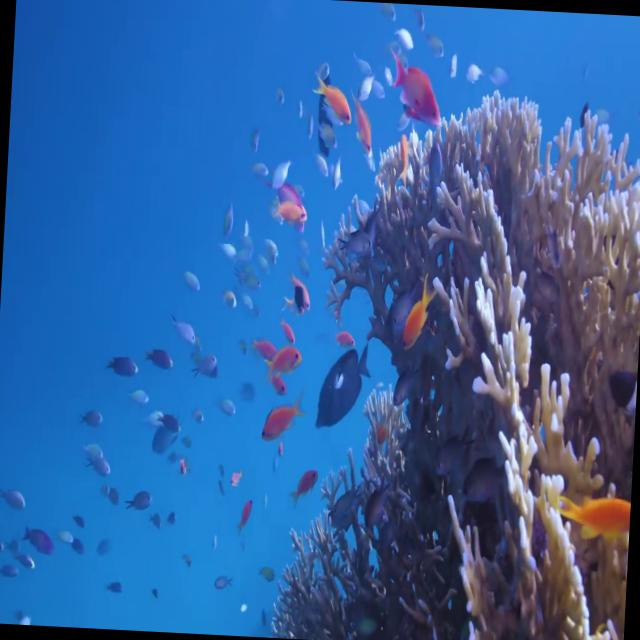fish: (312, 332, 373, 433), (542, 484, 632, 550), (387, 263, 443, 366), (384, 49, 448, 133), (253, 388, 312, 458), (260, 334, 310, 388), (270, 190, 318, 244), (311, 71, 352, 133), (348, 90, 381, 166), (18, 511, 58, 569), (284, 462, 324, 512), (102, 343, 149, 385), (152, 405, 184, 466), (136, 339, 184, 378), (165, 304, 203, 352), (387, 124, 415, 188), (258, 152, 298, 195), (185, 346, 222, 390), (121, 478, 156, 522), (207, 560, 239, 602), (0, 476, 32, 516), (231, 494, 259, 539), (178, 264, 209, 302), (76, 396, 106, 434), (219, 195, 241, 246), (77, 430, 106, 468), (392, 17, 418, 57), (211, 393, 242, 425), (83, 450, 113, 482), (422, 32, 452, 63), (464, 56, 486, 98), (488, 56, 512, 90), (221, 284, 241, 318), (0, 557, 24, 585), (98, 487, 124, 512), (448, 48, 462, 85), (0, 528, 6, 557)
